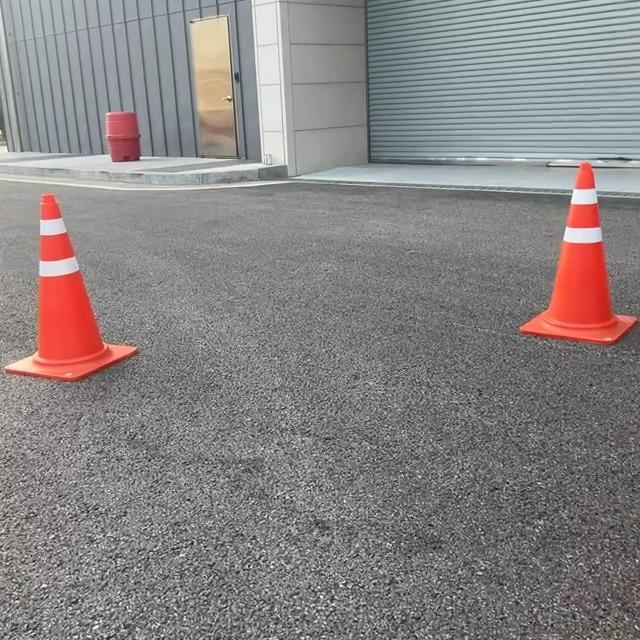fallen_object: (0, 165, 162, 450), (517, 152, 640, 438)
